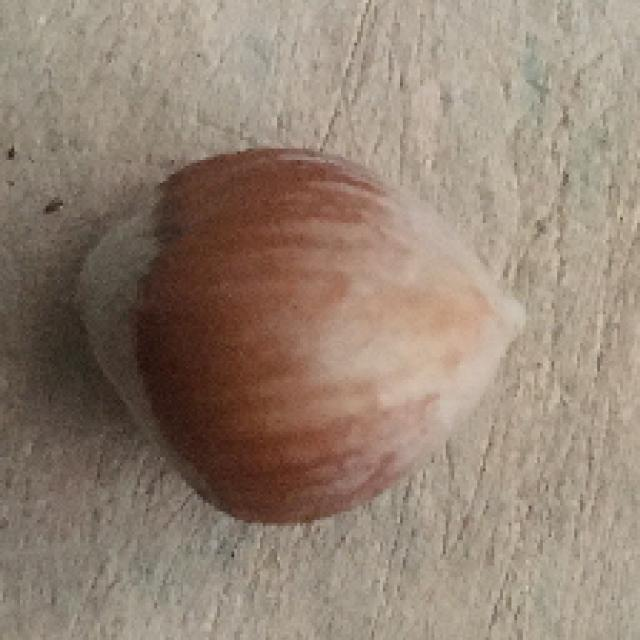qualityHazelnut: (57, 150, 535, 527)
